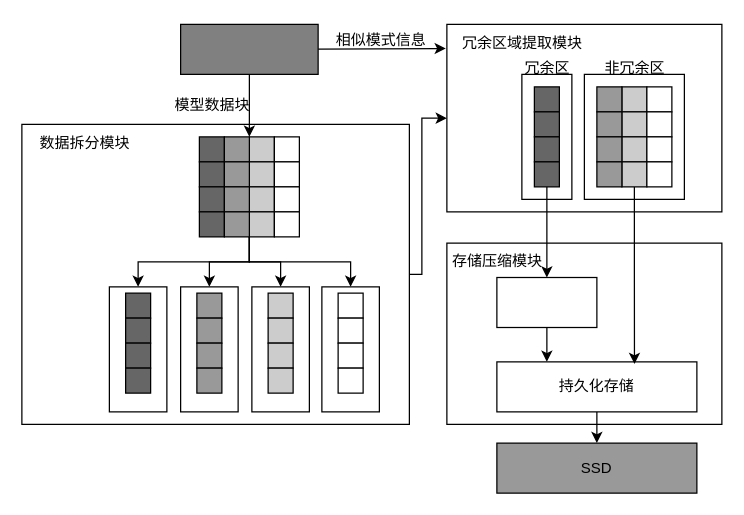
The diagram is 744 pixels wide and 515 high, and some of its shapes have lost their labels. Each missing label, with the centre of its shape:
"ZSTD/LZ4" goes at point 546,302.
"数据类型鉴别模块" goes at point 248,48.
